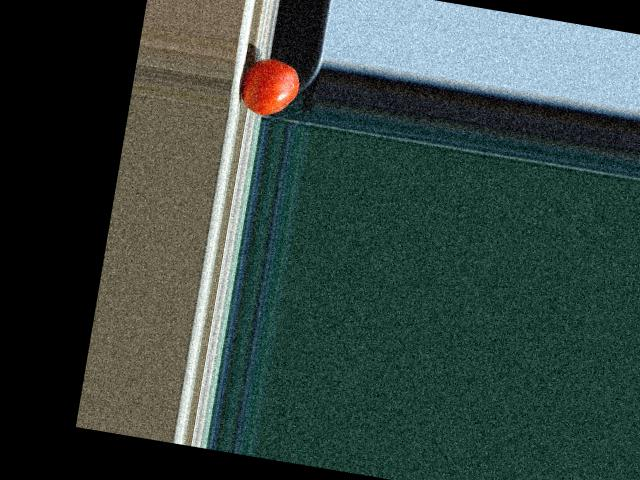tomato: (238, 55, 303, 119)
